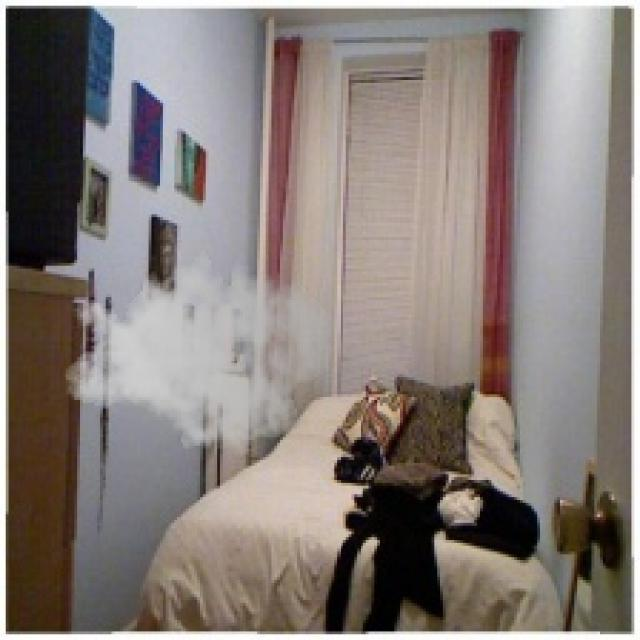Smoke: (63, 240, 334, 463)
